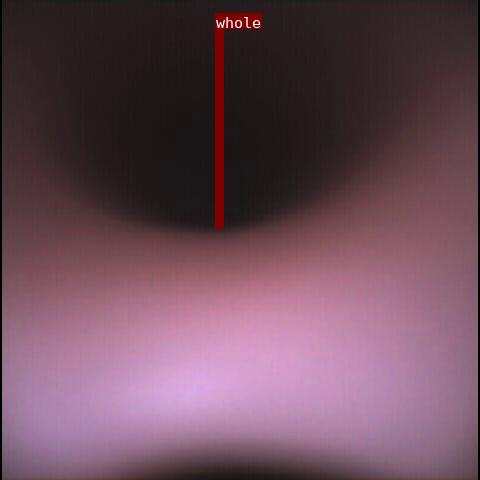whole: (215, 13, 223, 228)
